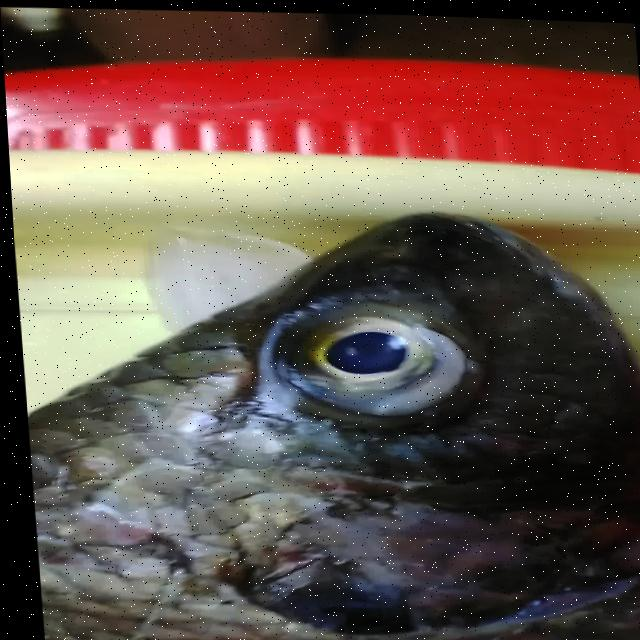Fresh: (239, 283, 498, 424)
